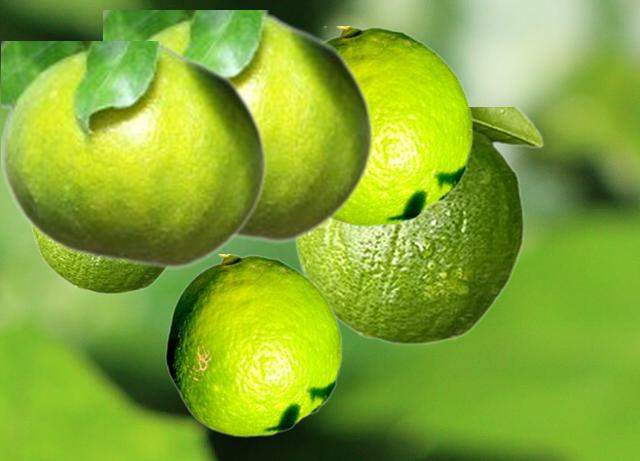dalandan: (103, 10, 374, 243), (1, 41, 267, 269), (294, 107, 543, 344), (165, 254, 341, 436), (322, 26, 472, 226), (30, 229, 165, 293)
